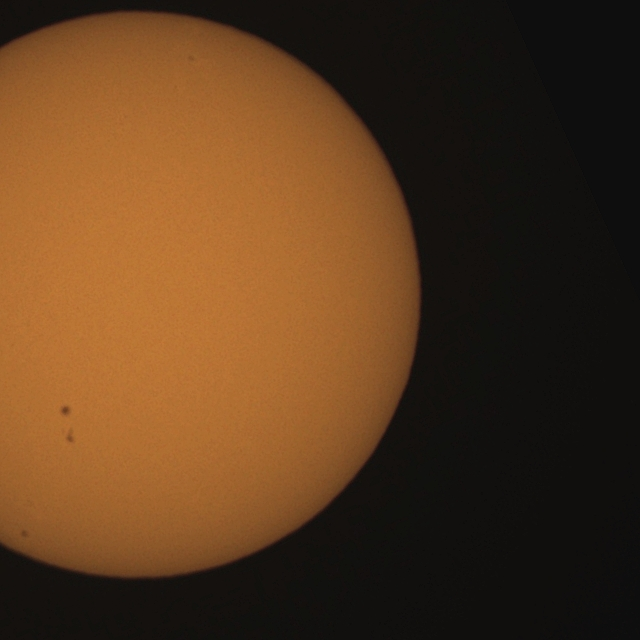sunspot: (61, 415, 76, 447), (59, 404, 72, 418), (20, 530, 29, 540)
